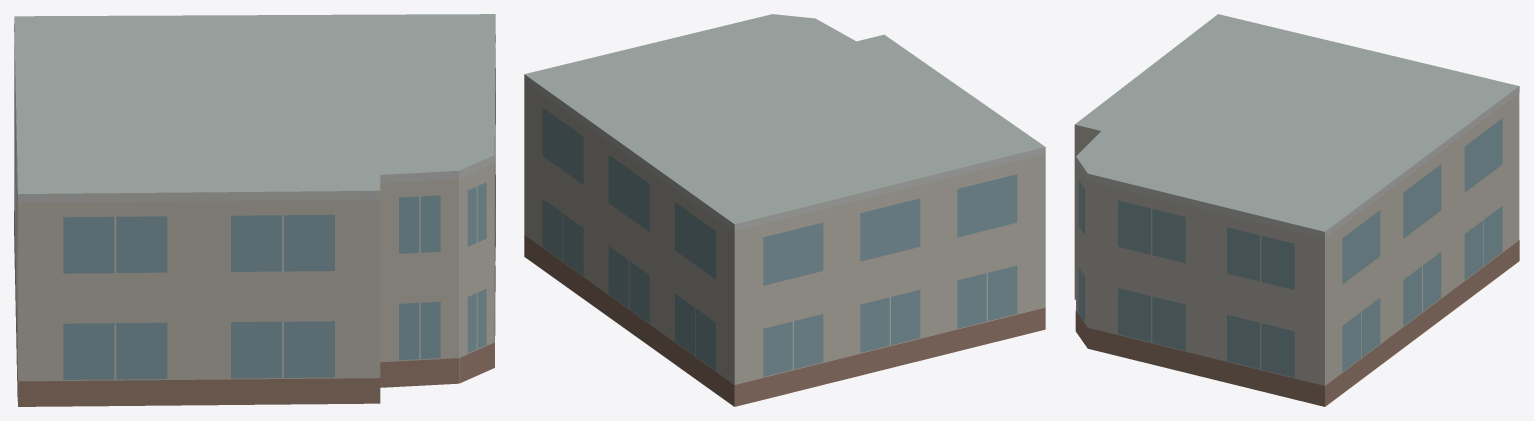
File: survey-upis-32685337.glb
3 views of the same model, side by side, from view 1: azimuth 30°, elevation 25°; view 2: azimuth 150°, elevation 25°; view 3: azimuth 270°, elevation 25° (orthographic). The views are drawn at different scales.
Parts seen in each view (by area): view 1: survey-upis-32685337.tmp; view 2: survey-upis-32685337.tmp; view 3: survey-upis-32685337.tmp.
Boxes of the visible parts, left/top/right/bottom form: survey-upis-32685337.tmp: left=14, top=14, right=495, bottom=406; survey-upis-32685337.tmp: left=524, top=14, right=1045, bottom=406; survey-upis-32685337.tmp: left=1074, top=14, right=1519, bottom=406.
Bounding box in the file's own units: 16.29 × 6.1 × 14.06.
